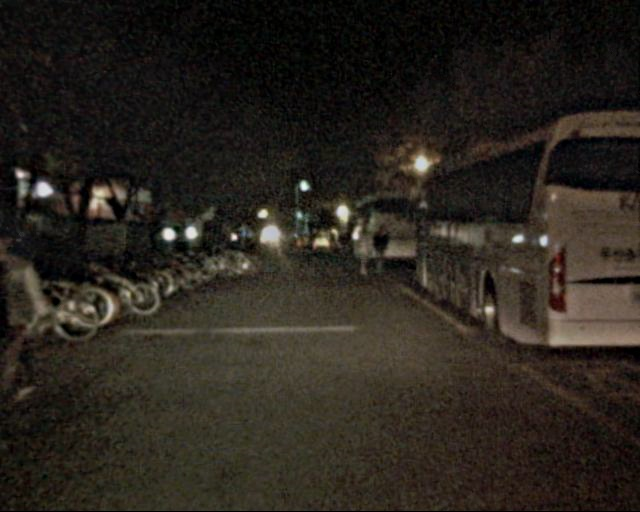person: (2, 224, 61, 451), (370, 222, 392, 275), (353, 224, 374, 274), (332, 224, 350, 267)
